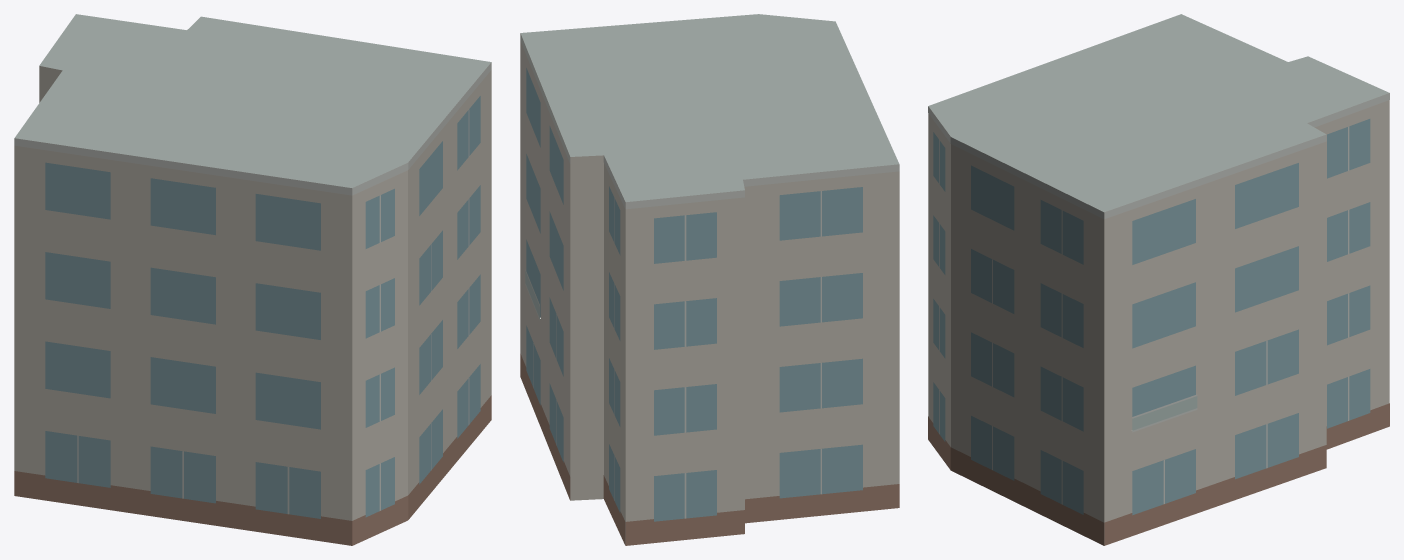
Rendered from survey-upis-32609133.glb.
3 renders of one model, left to right at view 1: azimuth 30°, elevation 25°; view 2: azimuth 150°, elevation 25°; view 3: azimuth 270°, elevation 25°, orthographic. The views are drawn at different scales.
Parts seen in each view (by area): view 1: survey-upis-32609133.tmp; view 2: survey-upis-32609133.tmp; view 3: survey-upis-32609133.tmp.
Boxes of the visible parts, box(x1,y1,x2,y2) form: survey-upis-32609133.tmp: box(14, 14, 491, 545); survey-upis-32609133.tmp: box(520, 14, 899, 545); survey-upis-32609133.tmp: box(928, 14, 1389, 545).
Size of the model in its own units: 14.93 by 11.7 by 14.68.
